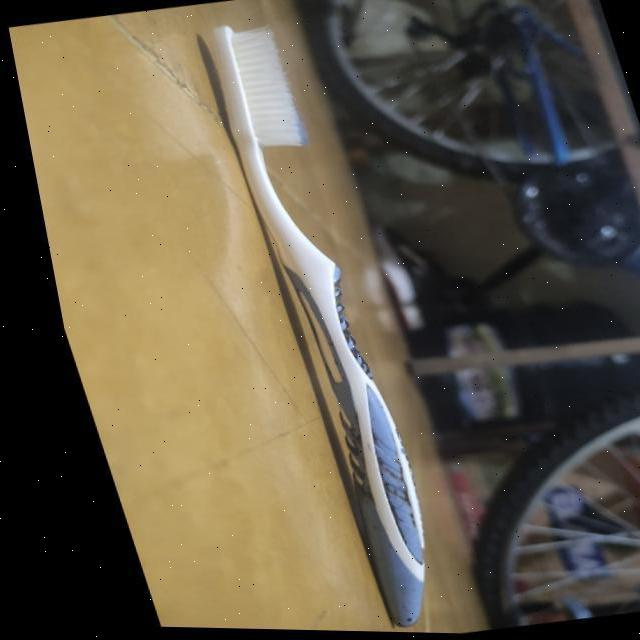toothbrush: (170, 13, 454, 634)
